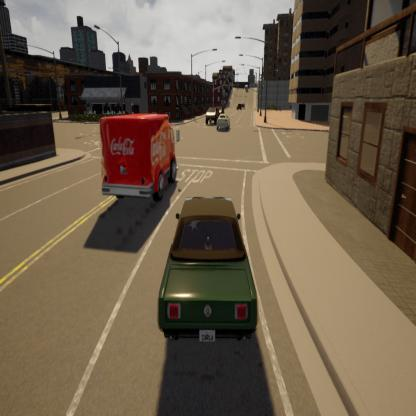Cars: (158, 199, 258, 342), (100, 112, 179, 204), (217, 112, 230, 132), (206, 105, 218, 125), (236, 101, 246, 109)
